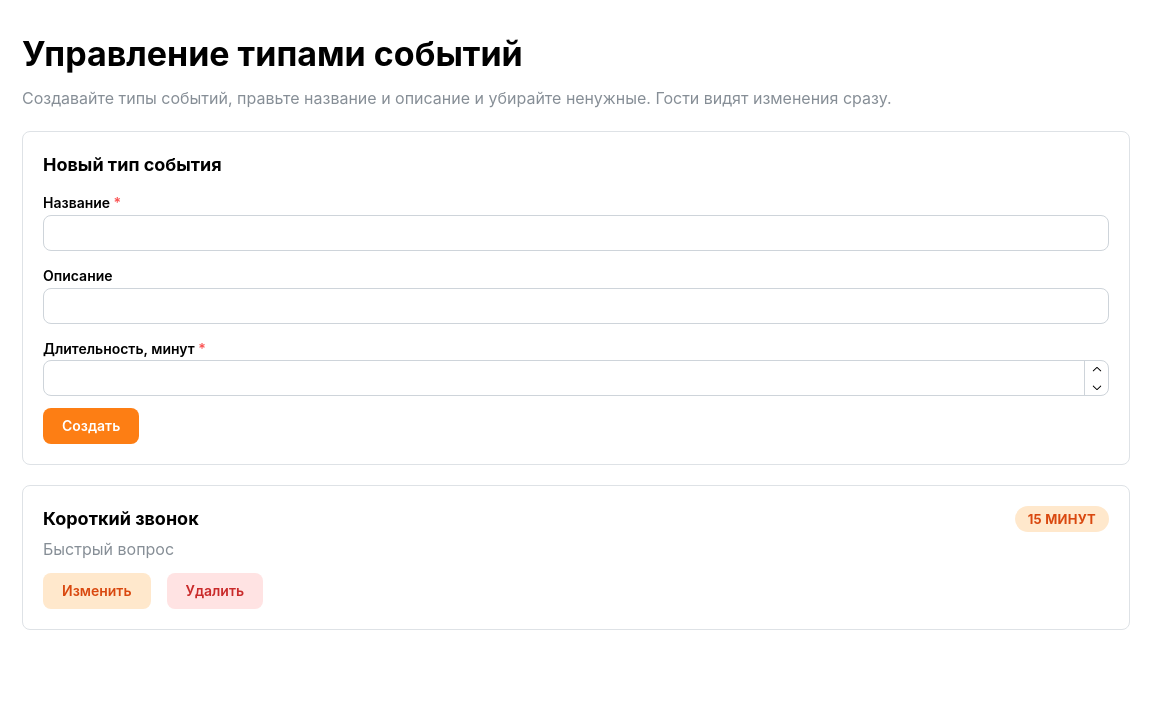
it: AdminPage › правит название и описание типа события
The width and height of the screenshot is (1152, 720).
Click the button "Изменить": {"x": 97, "y": 591} [43, 573, 150, 609]
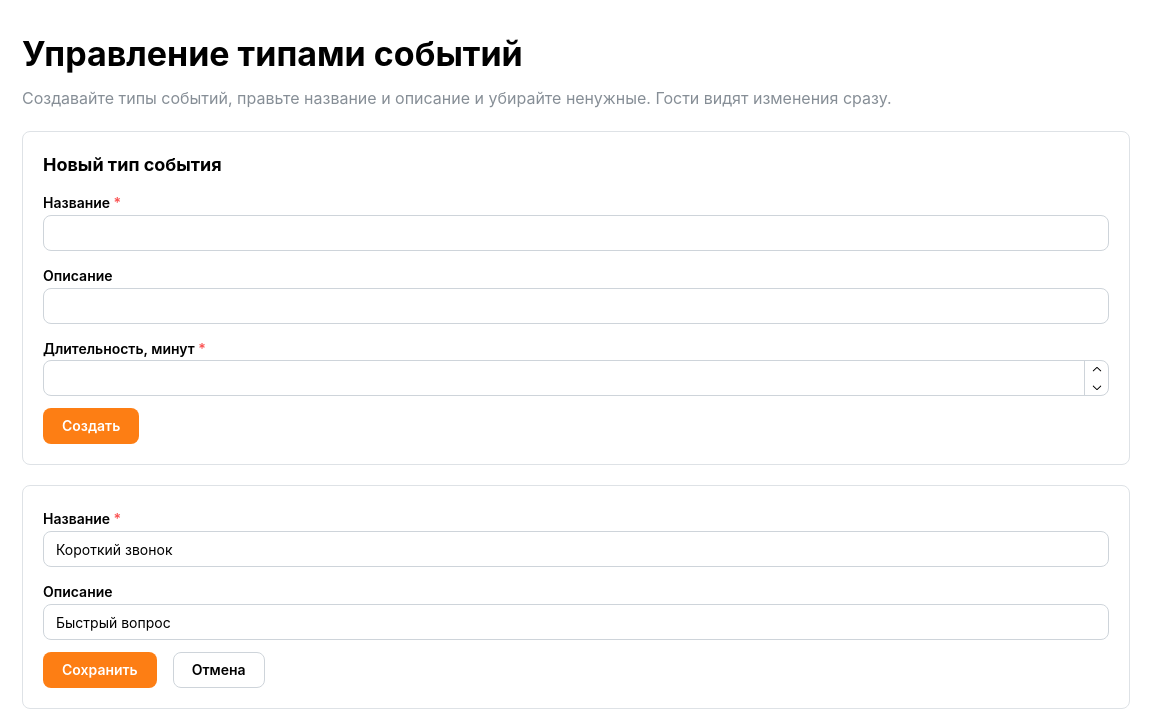
Replace the text in the 2nd field labelled "Название *" with "Обновлённый звонок": {"x": 576, "y": 549} [43, 531, 1109, 567]
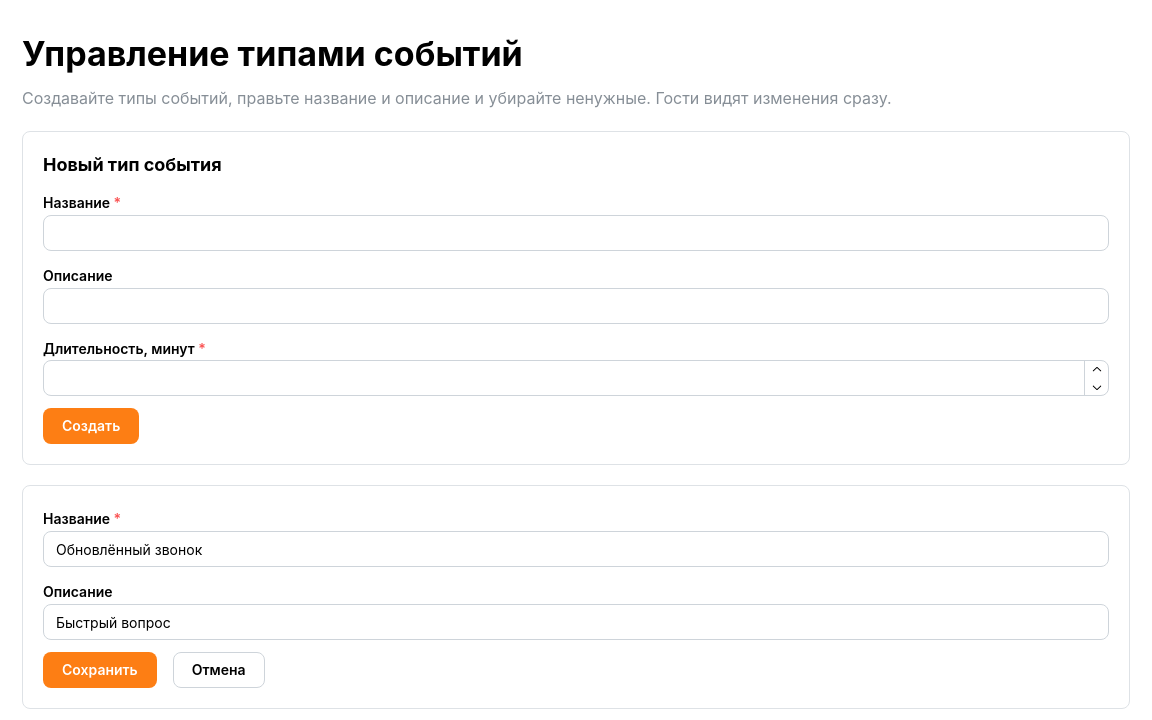
Replace the text in the 2nd field labelled "Описание" with "Новое описание": {"x": 576, "y": 622} [43, 604, 1109, 640]
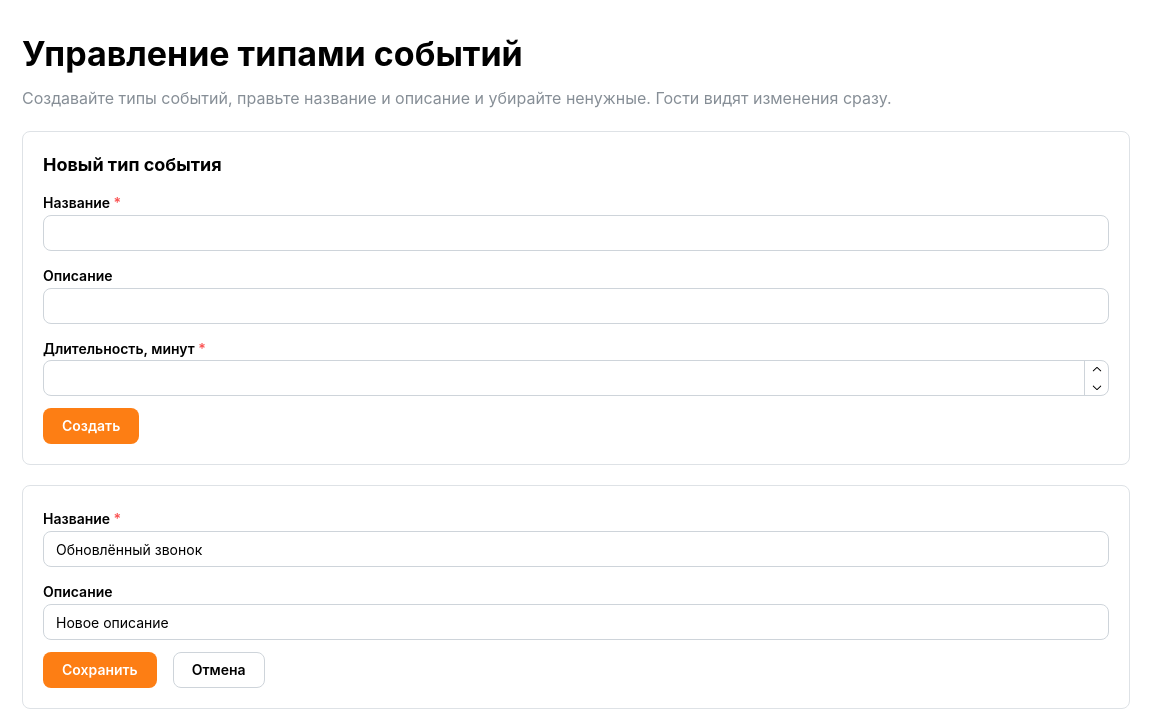
Click the button "Сохранить": {"x": 100, "y": 670} [43, 652, 157, 688]
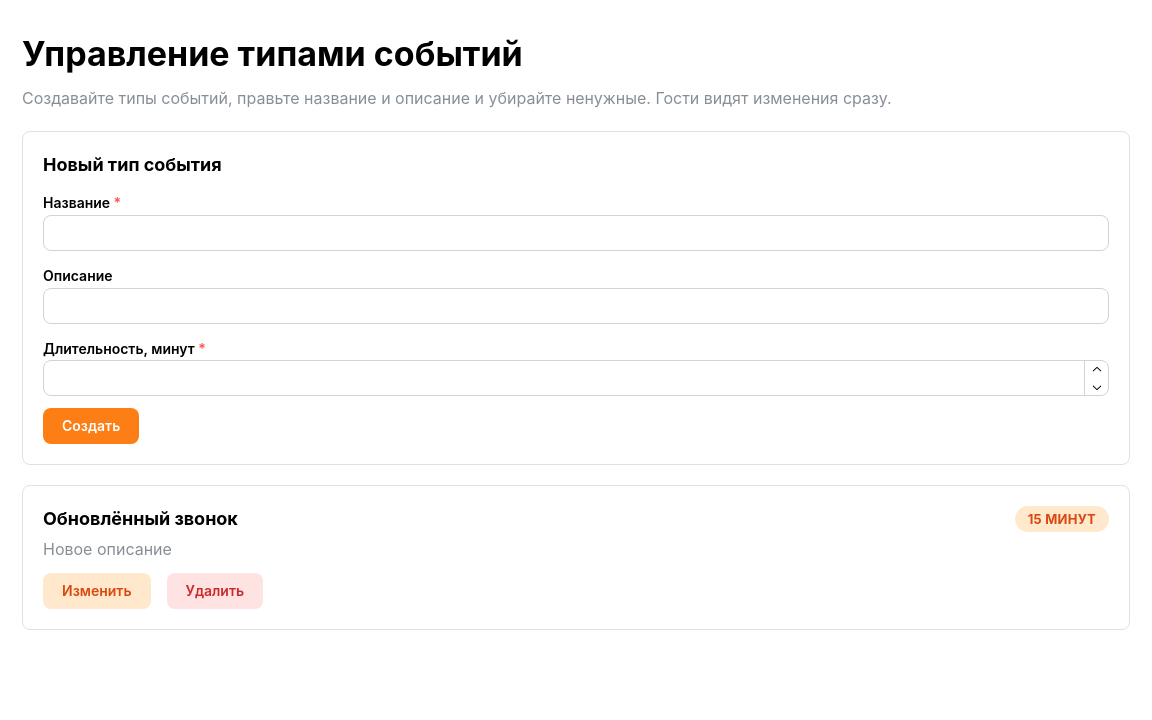
expect the heading "Обновлённый звонок" is shown: met, box [43, 506, 238, 533]
expect the text "Новое описание" is shown: met, box [43, 539, 172, 559]
